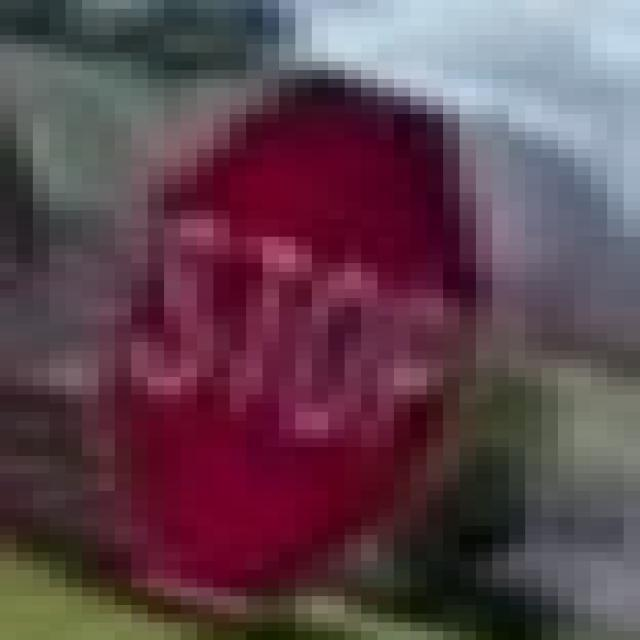Stop-Sign: (146, 106, 476, 501)
